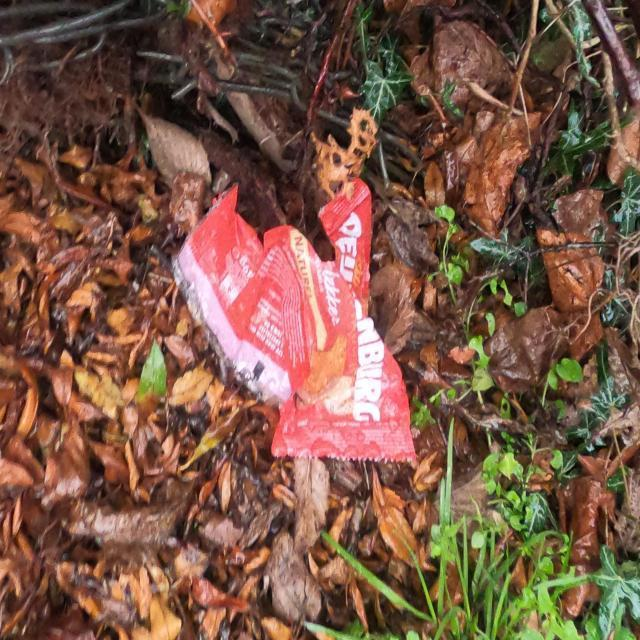Plastic: (168, 169, 418, 464)
